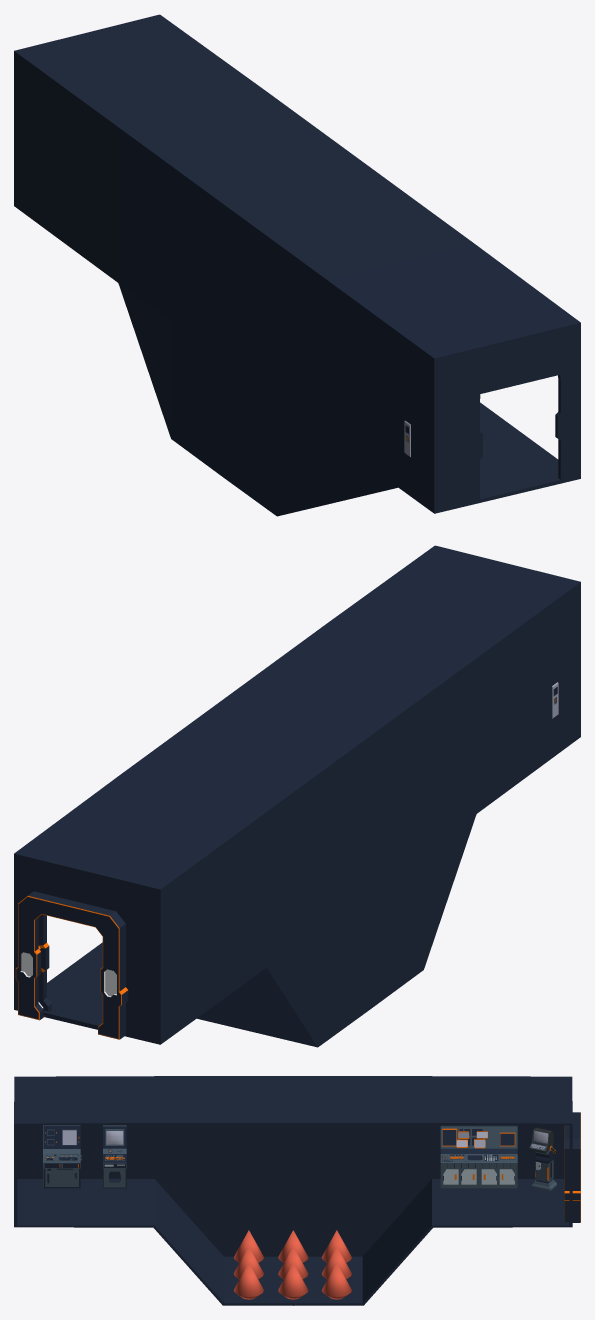
Rendered from Room_12.fbx.
3 renders of one model, top to bottom at view 1: azimuth 30°, elevation 25°; view 2: azimuth 150°, elevation 25°; view 3: azimuth 270°, elevation 25°, orthographic. The views are drawn at different scales.
Visible parts, largest first — view 1: Cube.110; view 2: Cube.110, Cube.103; view 3: Cube.110, Cube.430, Cube.429, Cube.103, Cylinder.082, Cube.018, Cone.013, Cone.014, Cone.012, Cone.006, Cone.008, Cone.011 (+3 smaller).
Boxes of the visible parts, <box> form: Cube.110: <box>14,14,580,516</box>; Cube.110: <box>14,545,580,1047</box>; Cube.103: <box>15,891,128,1039</box>; Cube.110: <box>14,1076,572,1305</box>; Cube.430: <box>440,1125,517,1188</box>; Cube.429: <box>43,1125,81,1188</box>; Cube.103: <box>564,1112,580,1222</box>; Cylinder.082: <box>103,1125,126,1188</box>; Cube.018: <box>529,1127,556,1190</box>; Cone.013: <box>233,1263,263,1299</box>; Cone.014: <box>321,1263,351,1299</box>; Cone.012: <box>278,1263,308,1299</box>; Cone.006: <box>278,1246,308,1279</box>; Cone.008: <box>322,1246,351,1279</box>; Cone.011: <box>321,1230,351,1262</box>.
Bounding box in the file's own units: 205 × 365 × 1027.
Materials: 7 (6 with a texture image).
